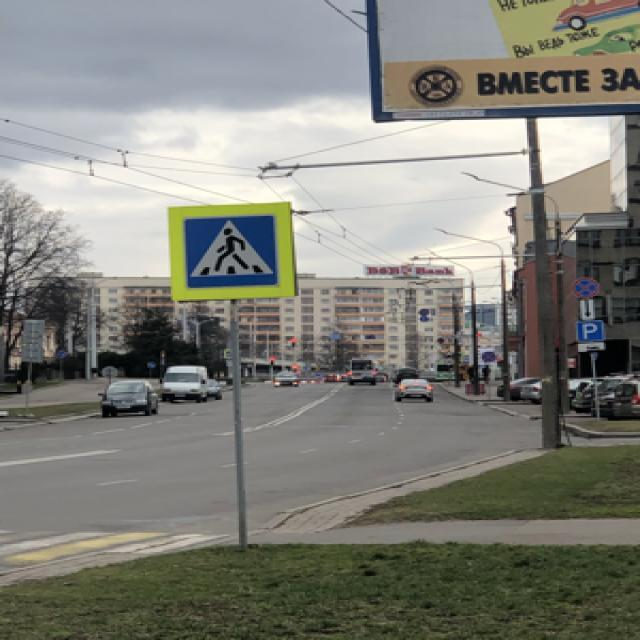crosswalk_sign: (179, 210, 283, 294)
